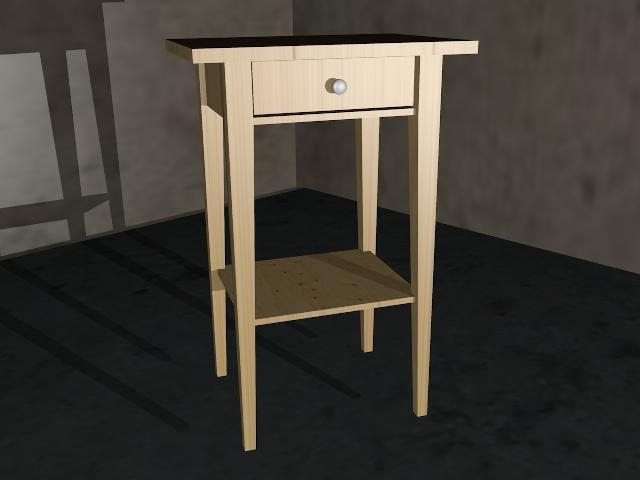cabinet_door: (252, 59, 420, 112)
handle: (319, 70, 354, 101)
